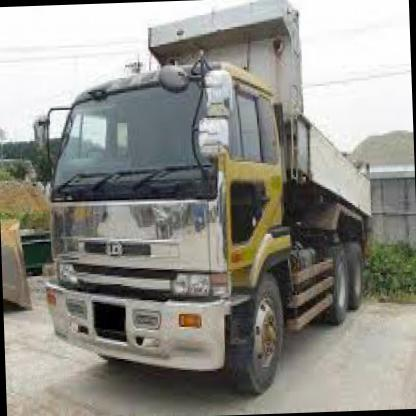truck: (42, 58, 301, 407)
